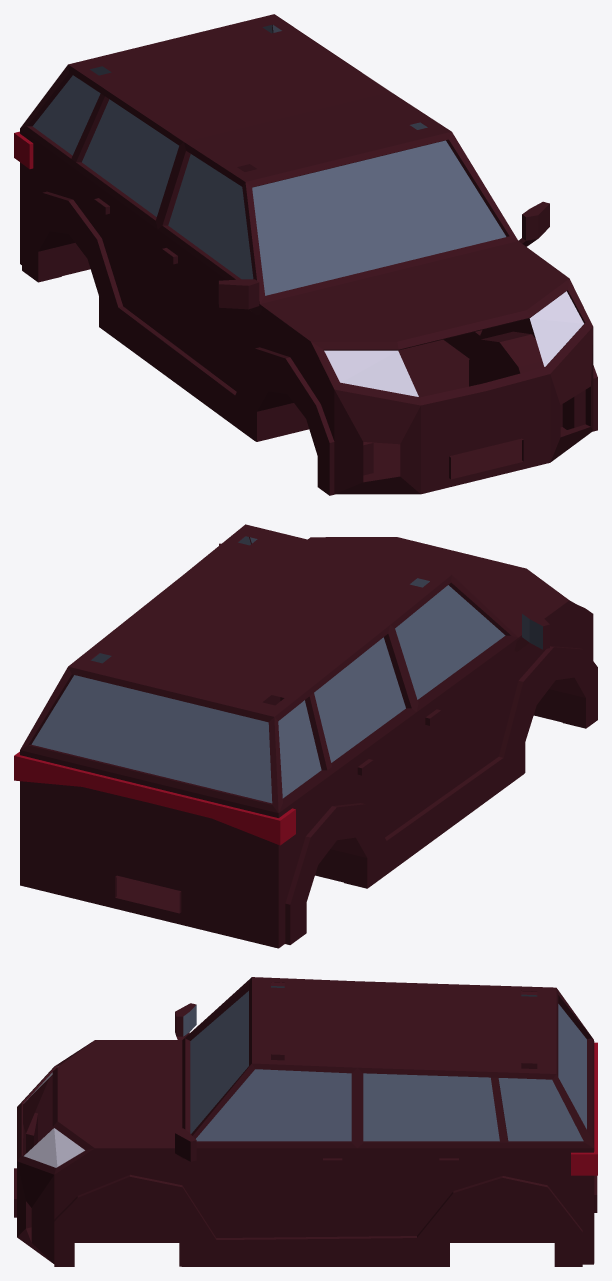
Rendered from SUV.glb.
3 renders of one model, top to bottom at view 1: azimuth 30°, elevation 25°; view 2: azimuth 150°, elevation 25°; view 3: azimuth 270°, elevation 25°, orthographic. The views are drawn at different scales.
Visible parts, largest first — view 1: SUV; view 2: SUV; view 3: SUV.
Boxes of the visible parts, bbox=[...] form: SUV: bbox=[14, 14, 597, 495]; SUV: bbox=[14, 524, 597, 948]; SUV: bbox=[14, 977, 597, 1266].
Size of the model in its own units: 281 by 180 by 501.
